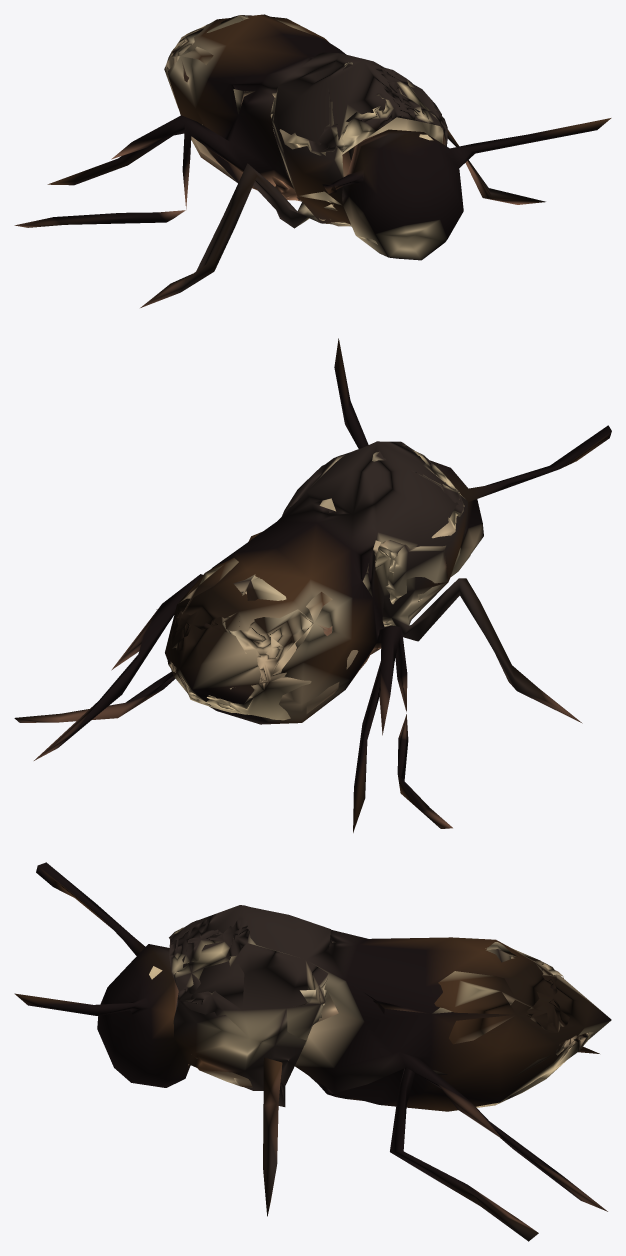
The model's file is gen3d-mosquito-lod0.glb.
The picture shows the model from 3 angles, top to bottom: view 1: azimuth 30°, elevation 25°; view 2: azimuth 150°, elevation 25°; view 3: azimuth 270°, elevation 25°; orthographic projection. The views are drawn at different scales.
Visible parts, largest first — view 1: part_0; view 2: part_0; view 3: part_0.
Part boxes in pixels (x1,y1,x2,y2): part_0: [14, 14, 611, 307]; part_0: [14, 338, 611, 832]; part_0: [14, 862, 611, 1241].
Bounding box in the file's own units: 1.98 × 1 × 2.33.
